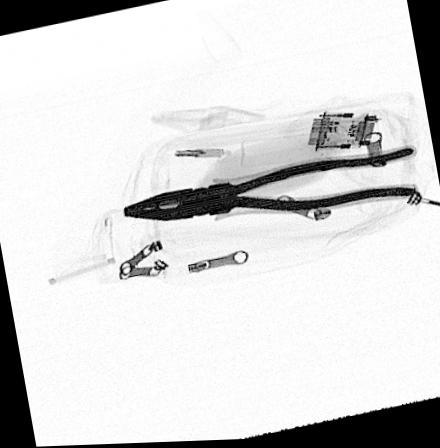Pliers: (121, 147, 420, 223)
